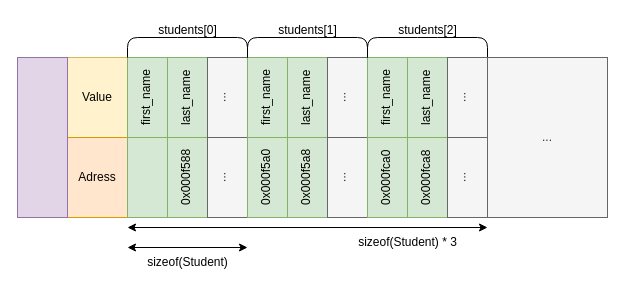
The diagram is 625 pixels wide and 294 high, and some of its shapes have lost their labels. Each missing label, with the centre of its shape:
"0x000f580" goes at pixel 147 177.
"Memory" goes at pixel 42 137.
